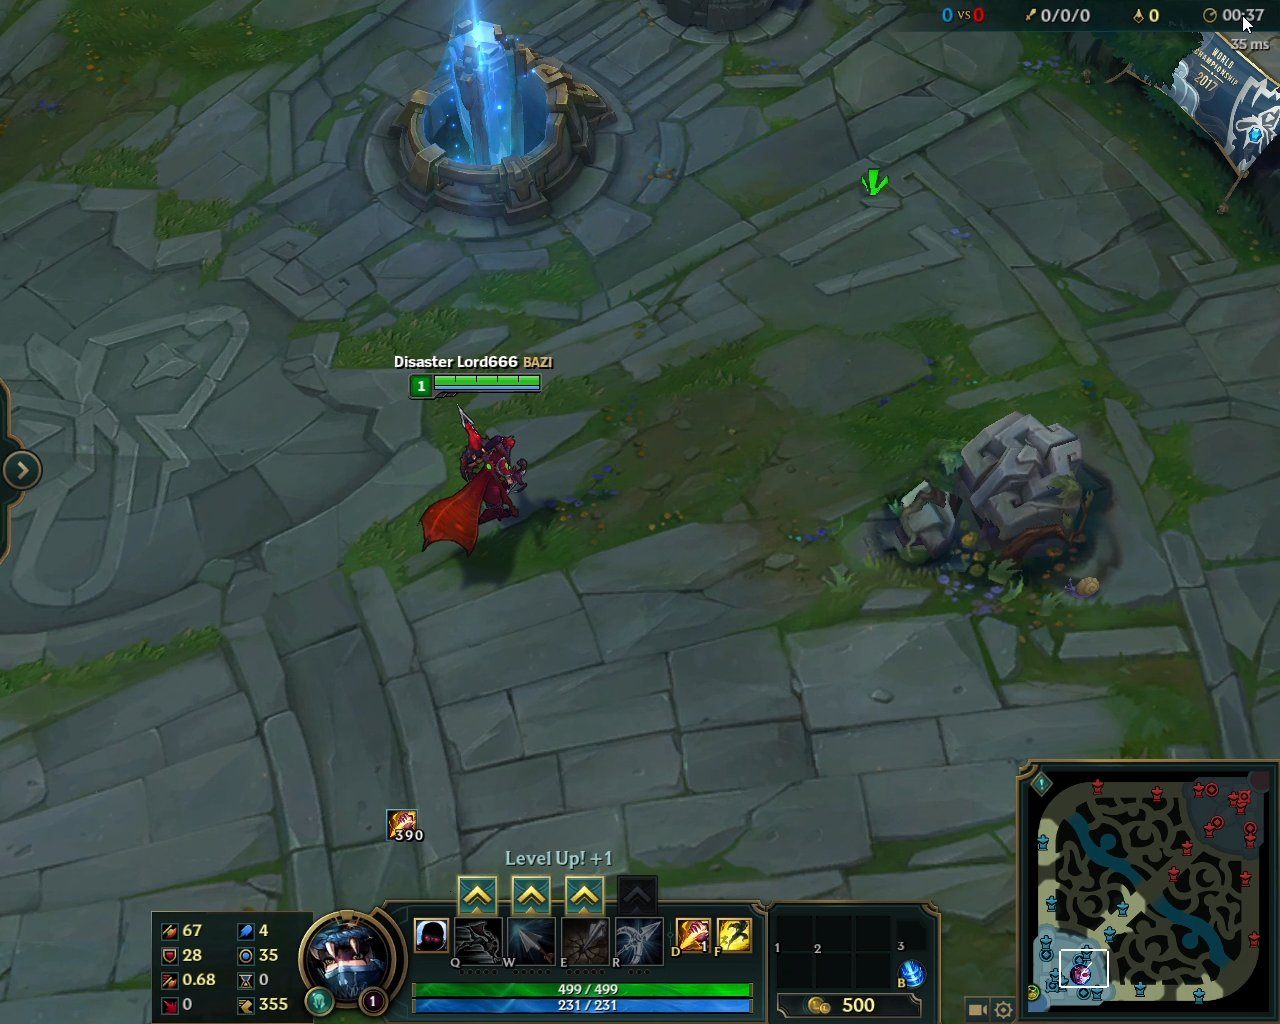Vayne: (412, 402, 541, 564)
